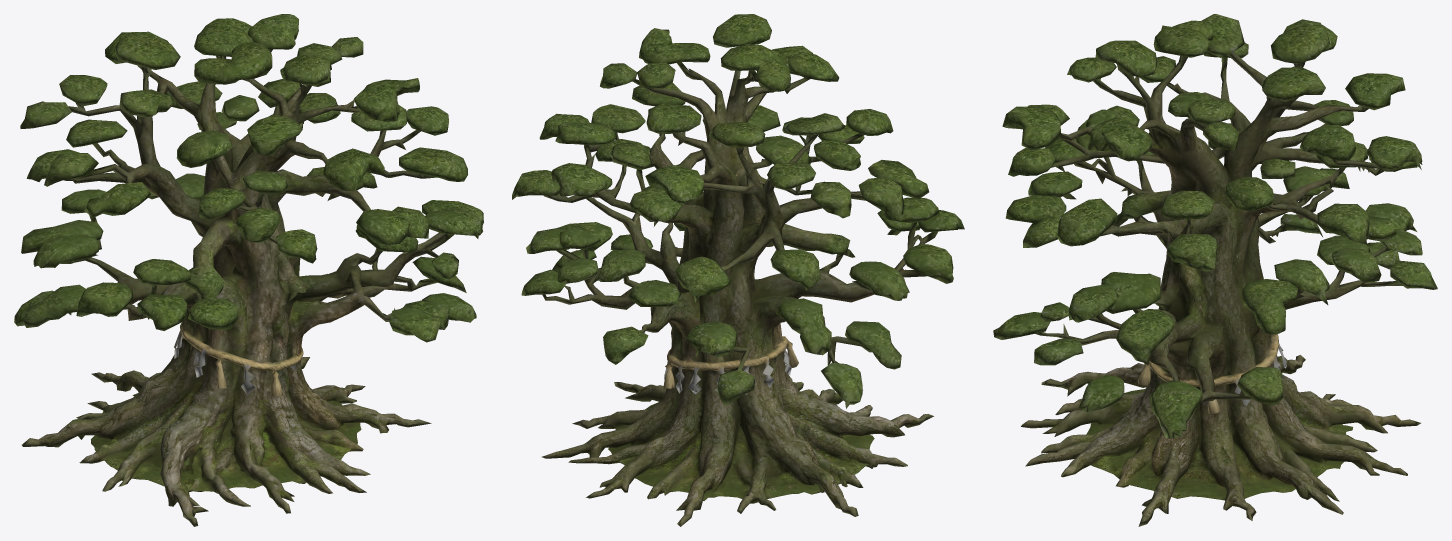
File: t951_zelkova.glb
The picture shows the model from 3 angles, left to right: view 1: azimuth 30°, elevation 25°; view 2: azimuth 150°, elevation 25°; view 3: azimuth 270°, elevation 25°; orthographic projection. The views are drawn at different scales.
Parts seen in each view (by area): view 1: tripo_node_205a125a-c249-4eec-8163-6add8f8bc332; view 2: tripo_node_205a125a-c249-4eec-8163-6add8f8bc332; view 3: tripo_node_205a125a-c249-4eec-8163-6add8f8bc332.
Part boxes in pixels (x1,y1,x2,y2): tripo_node_205a125a-c249-4eec-8163-6add8f8bc332: (14,14,483,526); tripo_node_205a125a-c249-4eec-8163-6add8f8bc332: (512,14,964,526); tripo_node_205a125a-c249-4eec-8163-6add8f8bc332: (993,14,1437,526).
Size of the model in its own units: 0.9741 by 0.919 by 0.8896.
Materials: 1 (1 with a texture image).
